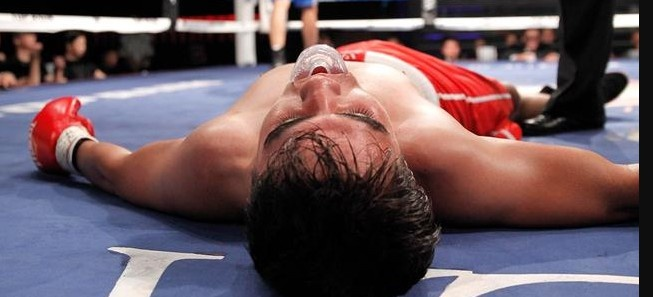falling: (23, 24, 628, 296)
